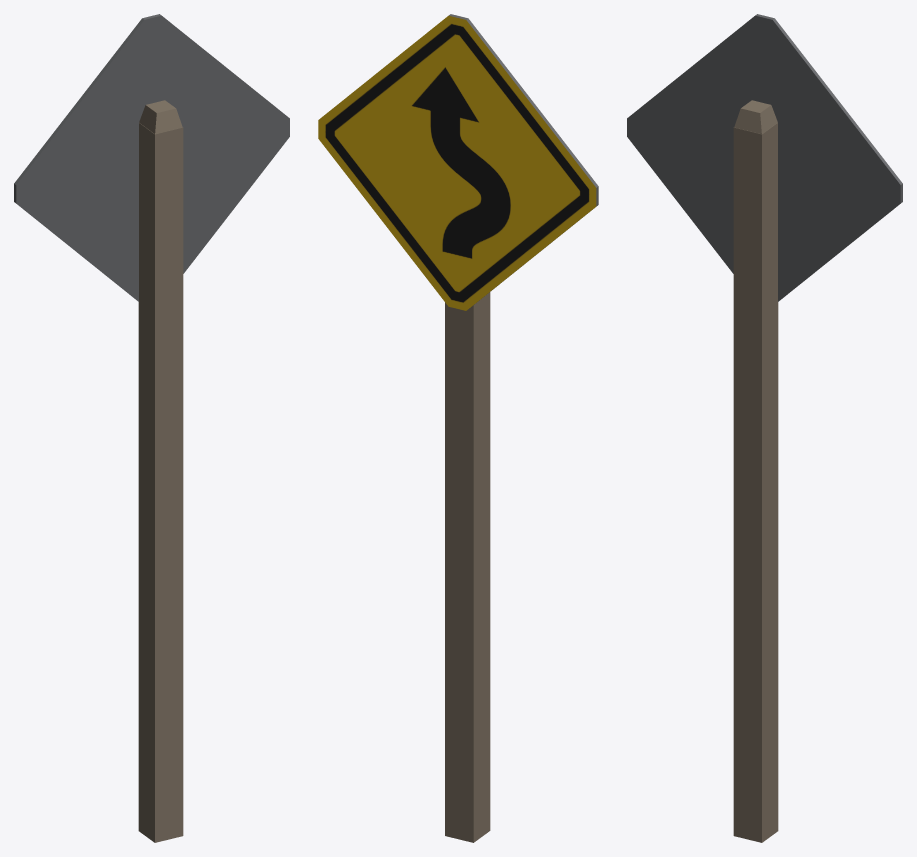
The model's file is sign-curves.glb.
3 views of the same model, side by side, from view 1: azimuth 30°, elevation 25°; view 2: azimuth 150°, elevation 25°; view 3: azimuth 330°, elevation 25° (orthographic).
Parts seen in each view (by area): view 1: sign-curves; view 2: sign-curves; view 3: sign-curves.
Boxes of the visible parts, bbox=[...] form: sign-curves: bbox=[14, 14, 289, 842]; sign-curves: bbox=[318, 14, 598, 842]; sign-curves: bbox=[627, 14, 902, 842].
Bounding box in the file's own units: 0.8592 × 2.43 × 0.099.
Materials: 3 (1 with a texture image).
